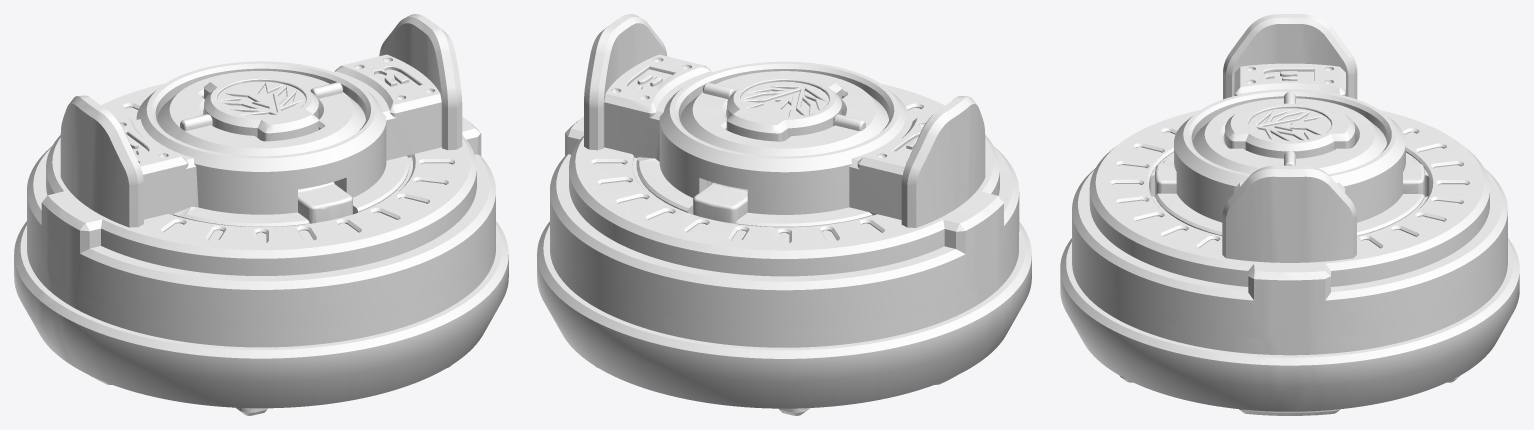
The model's file is ripfirevariablegeo.fbx.
The picture shows the model from 3 angles, left to right: view 1: azimuth 30°, elevation 25°; view 2: azimuth 150°, elevation 25°; view 3: azimuth 270°, elevation 25°; orthographic projection. The views are drawn at different scales.
Visible parts, largest first — view 1: RipFireVariableGeo; view 2: RipFireVariableGeo; view 3: RipFireVariableGeo.
Boxes of the visible parts, bbox=[...] form: RipFireVariableGeo: bbox=[14, 14, 508, 415]; RipFireVariableGeo: bbox=[537, 14, 1031, 415]; RipFireVariableGeo: bbox=[1060, 14, 1519, 415].
Size of the model in its own units: 0.388 by 0.2898 by 0.388.
Materials: 2 (2 with a texture image).
